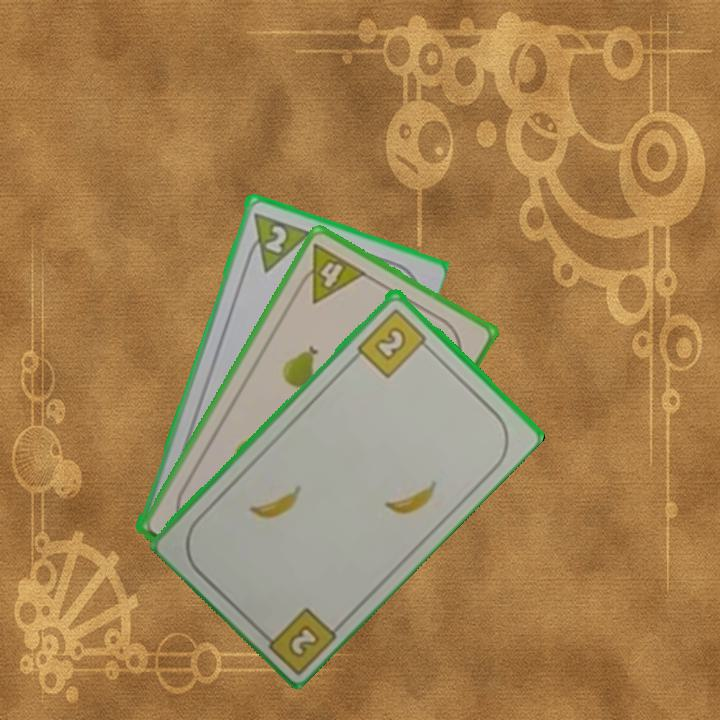2b: (353, 304, 434, 380), (254, 603, 340, 674)
2p: (240, 208, 311, 275)
4p: (291, 239, 369, 306)
